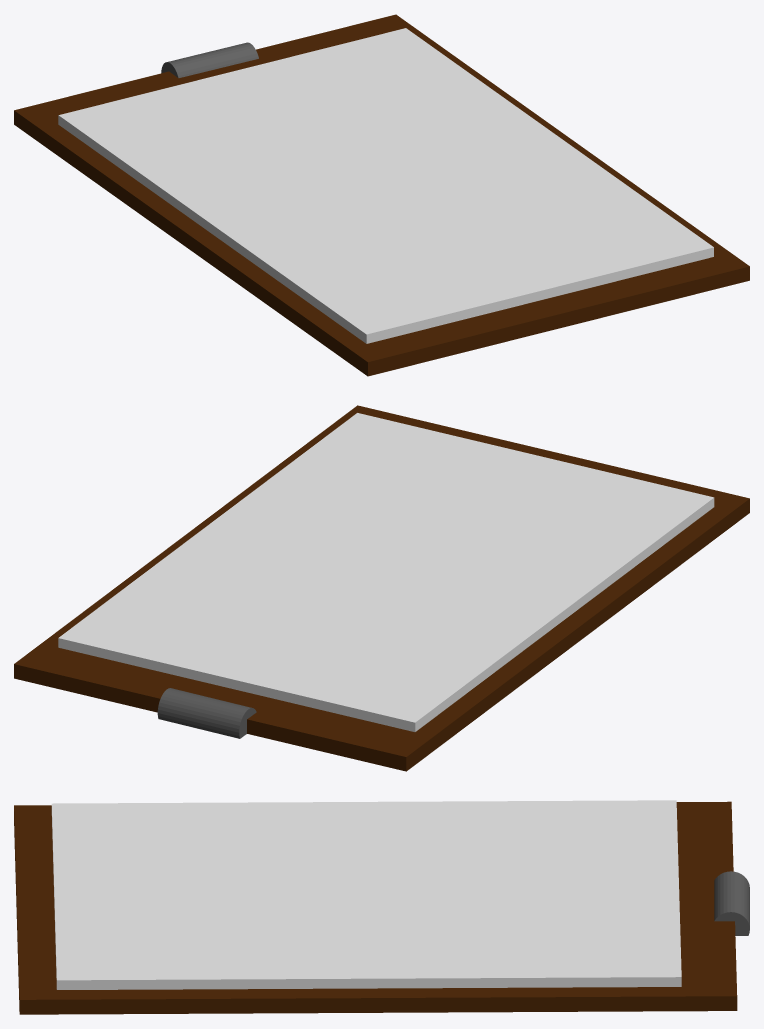
Rendered from to_do_list.fbx.
3 renders of one model, top to bottom at view 1: azimuth 30°, elevation 25°; view 2: azimuth 150°, elevation 25°; view 3: azimuth 270°, elevation 25°, orthographic. The views are drawn at different scales.
Parts seen in each view (by area): view 1: Cube.003, Cube.001, Cylinder; view 2: Cube.003, Cube.001, Cylinder; view 3: Cube.003, Cube.001, Cylinder.
Part boxes in pixels (<box>): Cube.003: <box>58,28,713,343</box>; Cube.001: <box>14,14,749,376</box>; Cylinder: <box>161,42,258,78</box>; Cube.003: <box>58,413,714,731</box>; Cube.001: <box>14,405,749,771</box>; Cylinder: <box>157,688,256,738</box>; Cube.003: <box>51,800,681,989</box>; Cube.001: <box>14,801,737,1014</box>; Cylinder: <box>714,871,749,935</box>.
Size of the model in its own units: 240 by 14.32 by 377.
